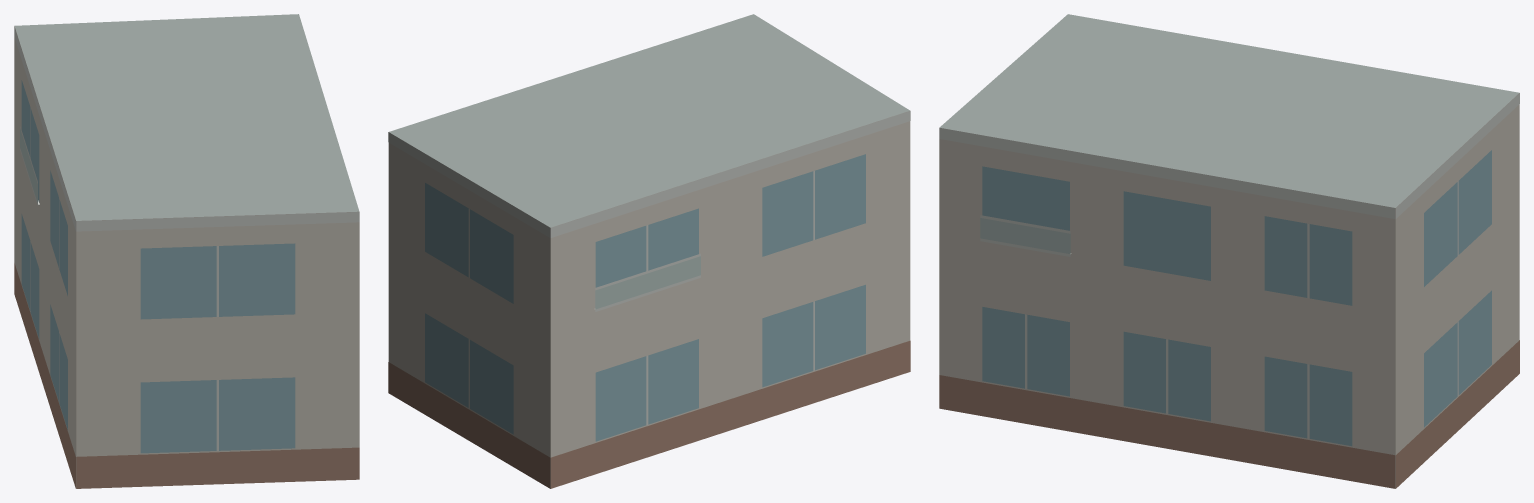
The model's file is survey-upis-32528889.glb.
3 renders of one model, left to right at view 1: azimuth 30°, elevation 25°; view 2: azimuth 150°, elevation 25°; view 3: azimuth 270°, elevation 25°, orthographic. The views are drawn at different scales.
Visible parts, largest first — view 1: survey-upis-32528889.tmp; view 2: survey-upis-32528889.tmp; view 3: survey-upis-32528889.tmp.
Part boxes in pixels (x1,y1,x2,y2): survey-upis-32528889.tmp: [14, 14, 359, 488]; survey-upis-32528889.tmp: [388, 14, 910, 488]; survey-upis-32528889.tmp: [939, 14, 1519, 488].
Size of the model in its own units: 9.05 by 6.1 by 11.44.
